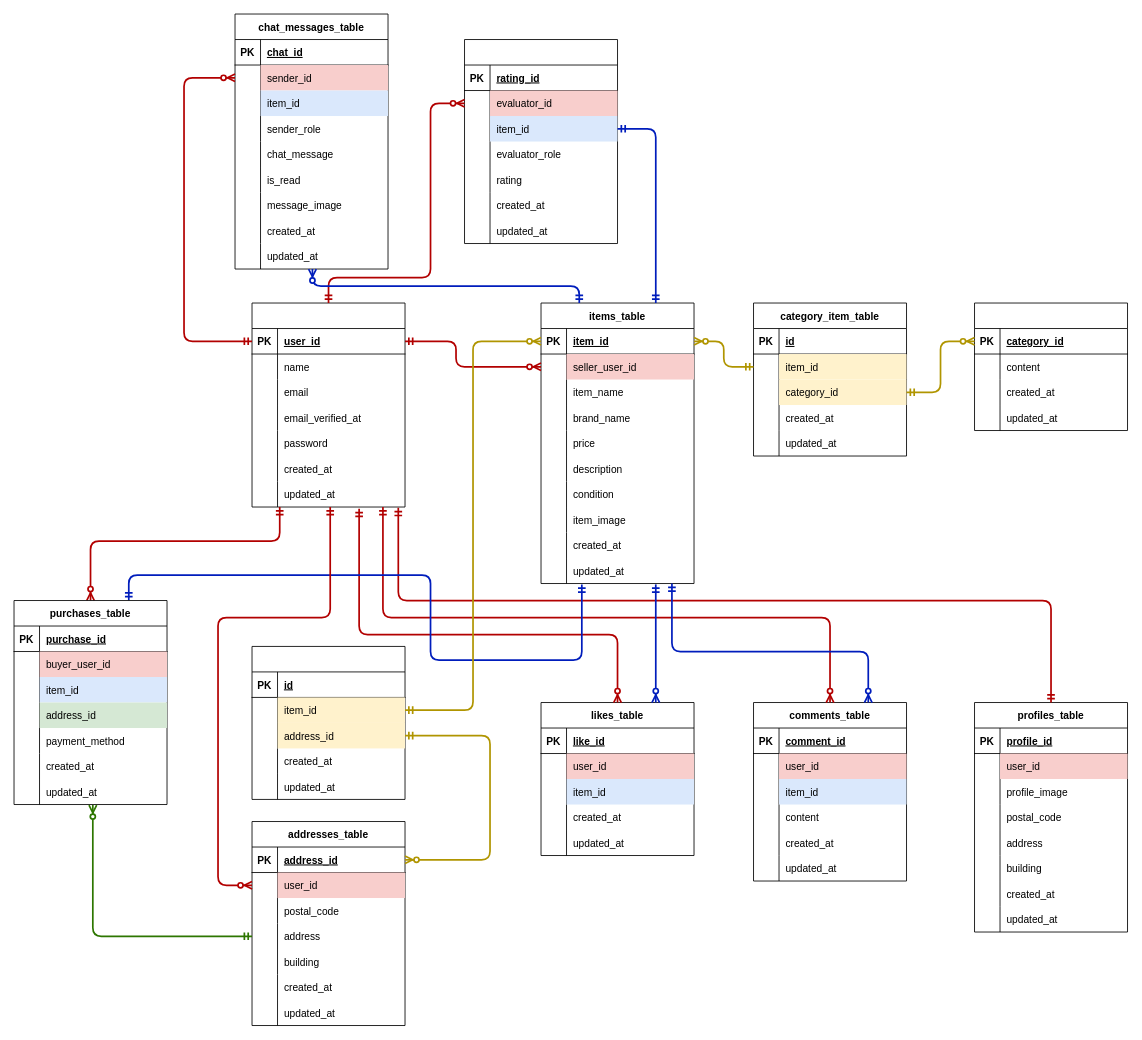
This 1142x1040 diagram has some shape labels left out. Here are the shapes that lost their labels. From the top down, the box of each, then its label:
(464, 39, 618, 244): rating_table
(974, 302, 1128, 431): categories_table
(251, 302, 405, 507): users_table
(251, 646, 405, 799): address_item_table
